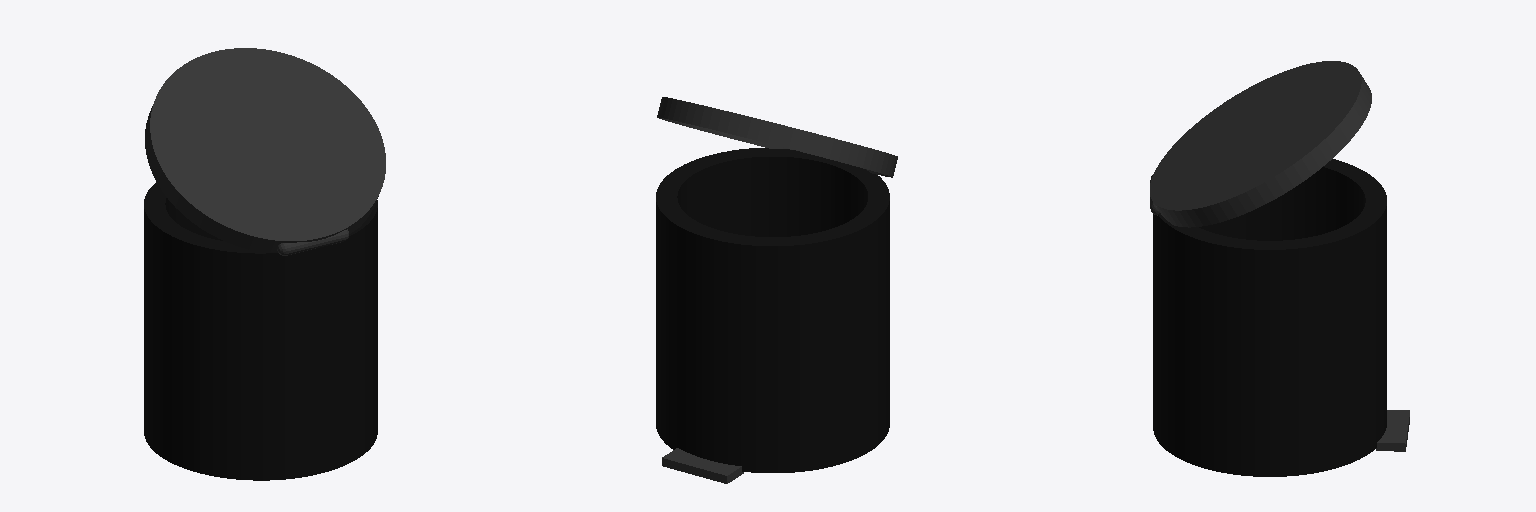
File: recycleBin.obj
The picture shows the model from 3 angles: view 1: azimuth 30°, elevation 25°; view 2: azimuth 150°, elevation 25°; view 3: azimuth 270°, elevation 25°; orthographic projection.
Visible parts, largest first — view 1: Tube, Disc.1, Capsule; view 2: Tube, Disc.1, Cube; view 3: Tube, Disc.1, Cube.
Boxes of the visible parts, x1,y1,x2,y2 form: Tube: [144, 182, 377, 480]; Disc.1: [145, 48, 385, 251]; Capsule: [277, 229, 348, 255]; Tube: [656, 148, 889, 472]; Disc.1: [657, 97, 897, 177]; Cube: [662, 448, 743, 483]; Tube: [1153, 159, 1386, 476]; Disc.1: [1150, 61, 1371, 227]; Cube: [1376, 410, 1409, 451].
Bounding box in the file's own units: 282 × 446 × 302.